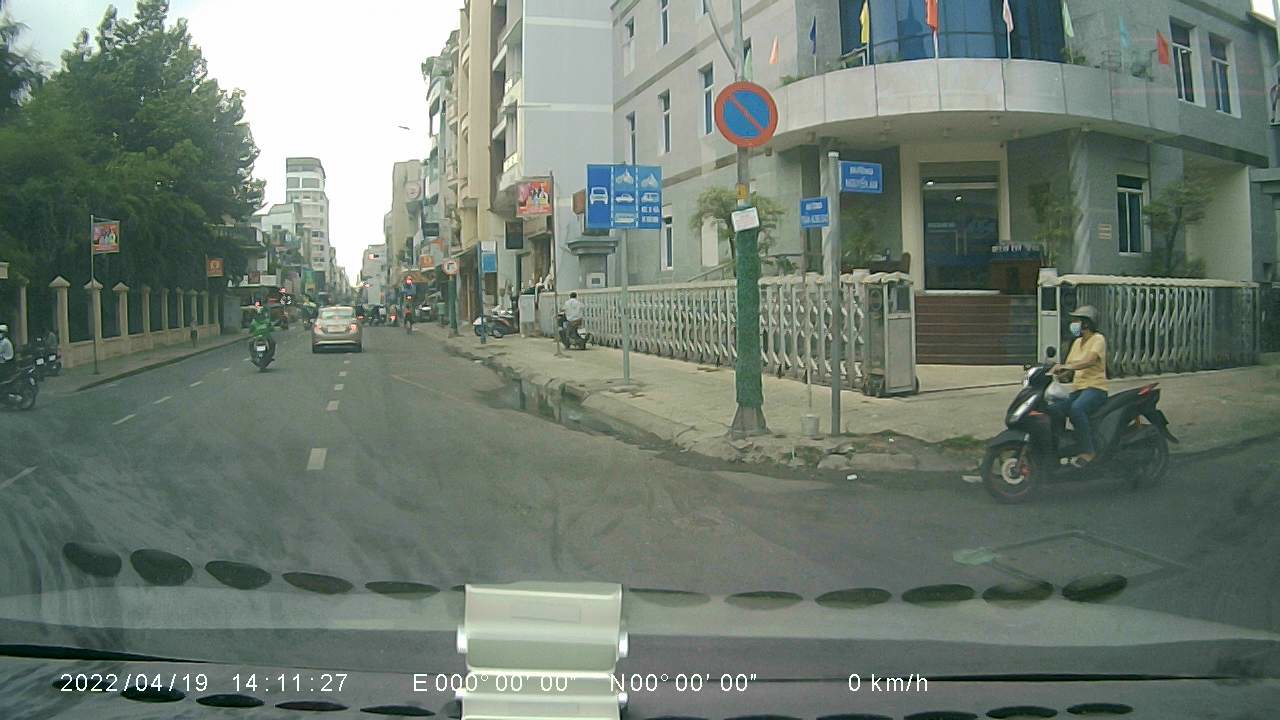Cam do xe: (711, 80, 778, 149)
